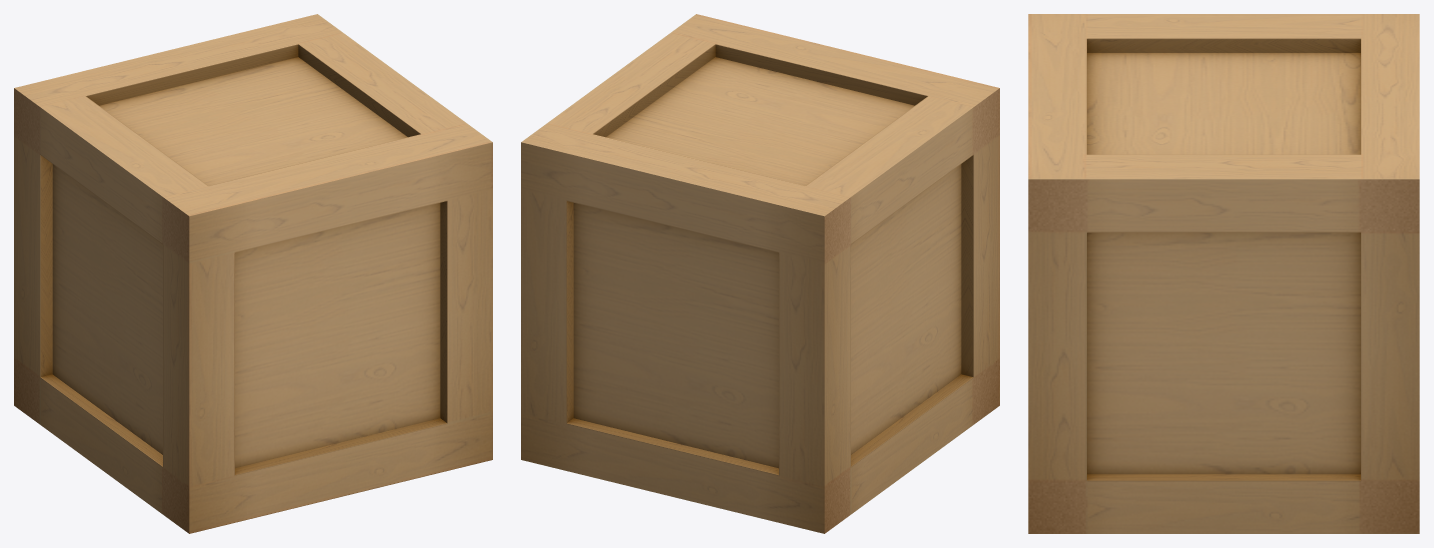
File: model_crate.fbx
3 renders of one model, left to right at view 1: azimuth 30°, elevation 25°; view 2: azimuth 150°, elevation 25°; view 3: azimuth 270°, elevation 25°, orthographic. The views are drawn at different scales.
Parts seen in each view (by area): view 1: crate; view 2: crate; view 3: crate.
Boxes of the visible parts, x1,y1,x2,y2 form: crate: (14, 14, 492, 533); crate: (521, 14, 999, 533); crate: (1028, 14, 1419, 533).
Size of the model in its own units: 100 by 100 by 100.
